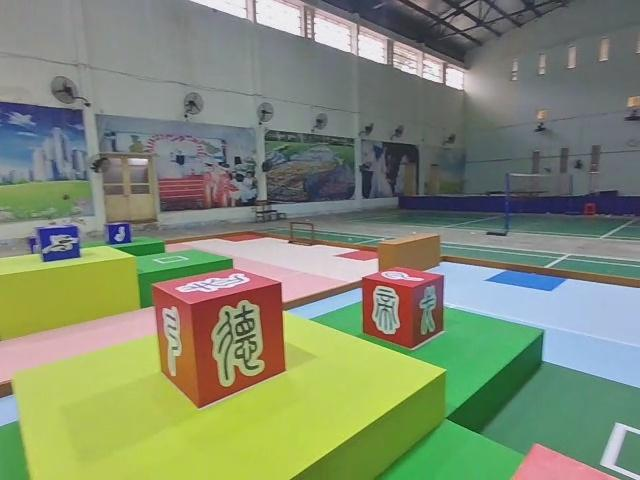R2 Fake: (151, 269, 287, 410), (363, 265, 445, 350)
